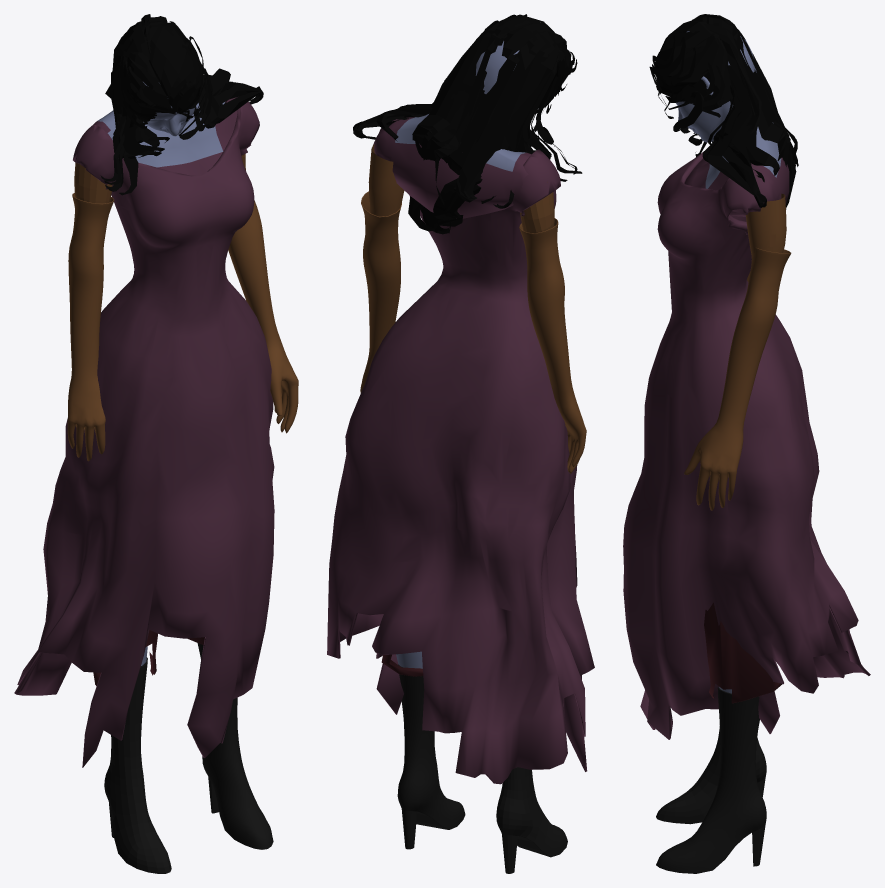
Rendered from Corpse1.fbx.
The picture shows the model from 3 angles, left to right: view 1: azimuth 30°, elevation 25°; view 2: azimuth 150°, elevation 25°; view 3: azimuth 270°, elevation 25°; orthographic projection. The views are drawn at different scales.
Visible parts, largest first — view 1: BodyDress, Hair, ArmL, BootL, ArmR, BootR; view 2: BodyDress, Hair, ArmL, ArmR, BootR, BootL; view 3: BodyDress, Hair, ArmR, BootR, Pants, BootL.
Part boxes in pixels (<box>): BodyDress: <box>14,82,274,767</box>; Hair: <box>100,14,263,195</box>; ArmL: <box>67,163,114,461</box>; BootL: <box>104,657,171,873</box>; ArmR: <box>228,154,298,433</box>; BootR: <box>197,643,273,849</box>; BodyDress: <box>327,41,594,784</box>; Hair: <box>353,14,582,234</box>; ArmL: <box>519,182,586,473</box>; ArmR: <box>360,144,404,393</box>; BootR: <box>397,664,465,849</box>; BootL: <box>496,767,567,873</box>; BodyDress: <box>623,31,870,739</box>; Hair: <box>649,14,798,209</box>; ArmR: <box>684,193,791,510</box>; BootR: <box>656,687,766,873</box>; Pants: <box>704,602,782,703</box>; BootL: <box>656,725,766,824</box>.
Bounding box in the file's own units: 57.49 × 183 × 50.79.
